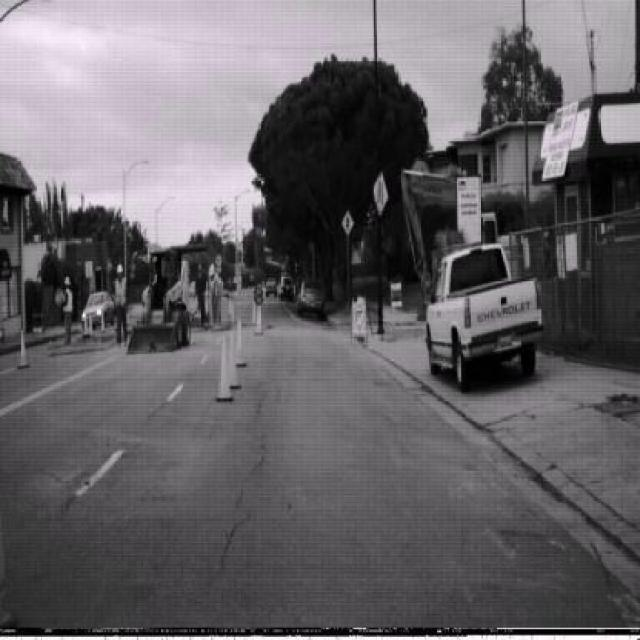laneEnds: (372, 172, 389, 215)
pedestrianCrossing: (342, 208, 354, 236)
